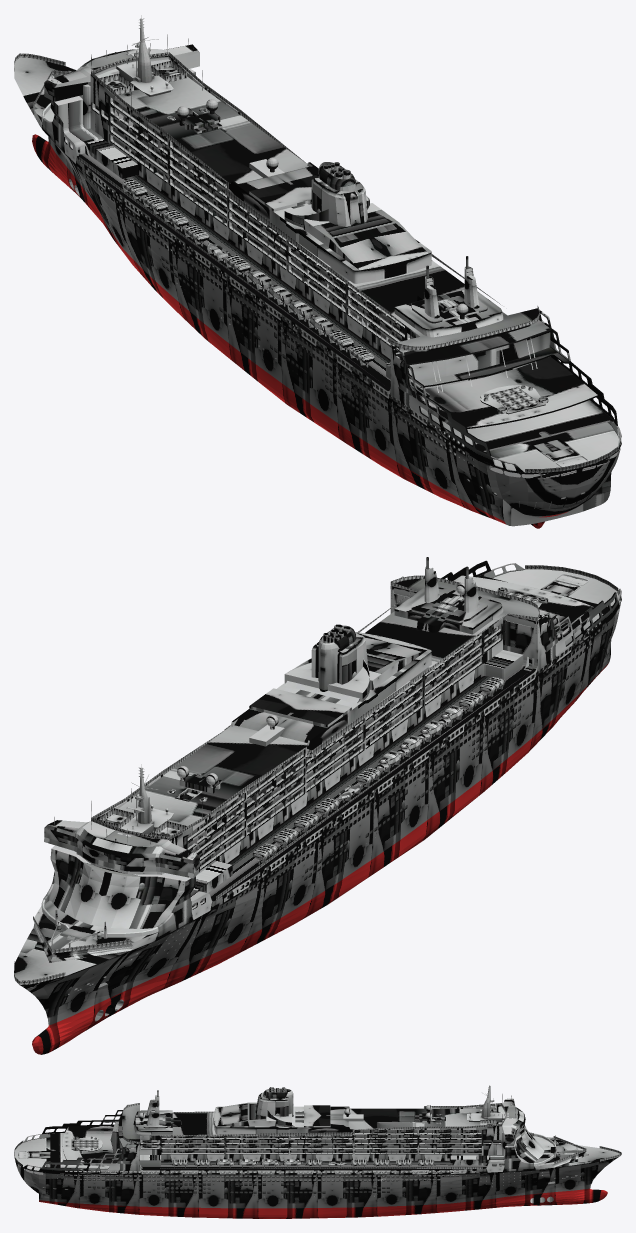
The model's file is BigCruise.glb.
3 renders of one model, top to bottom at view 1: azimuth 30°, elevation 25°; view 2: azimuth 150°, elevation 25°; view 3: azimuth 270°, elevation 25°, orthographic. The views are drawn at different scales.
Visible parts, largest first — view 1: BigCruise; view 2: BigCruise; view 3: BigCruise.
Boxes of the visible parts, x1,y1,x2,y2 form: BigCruise: (14,15,621,528); BigCruise: (14,557,621,1054); BigCruise: (14,1085,621,1218).
Bounding box in the file's own units: 0.00788 × 0.0114 × 0.0511.
2 materials, 2 textured.
